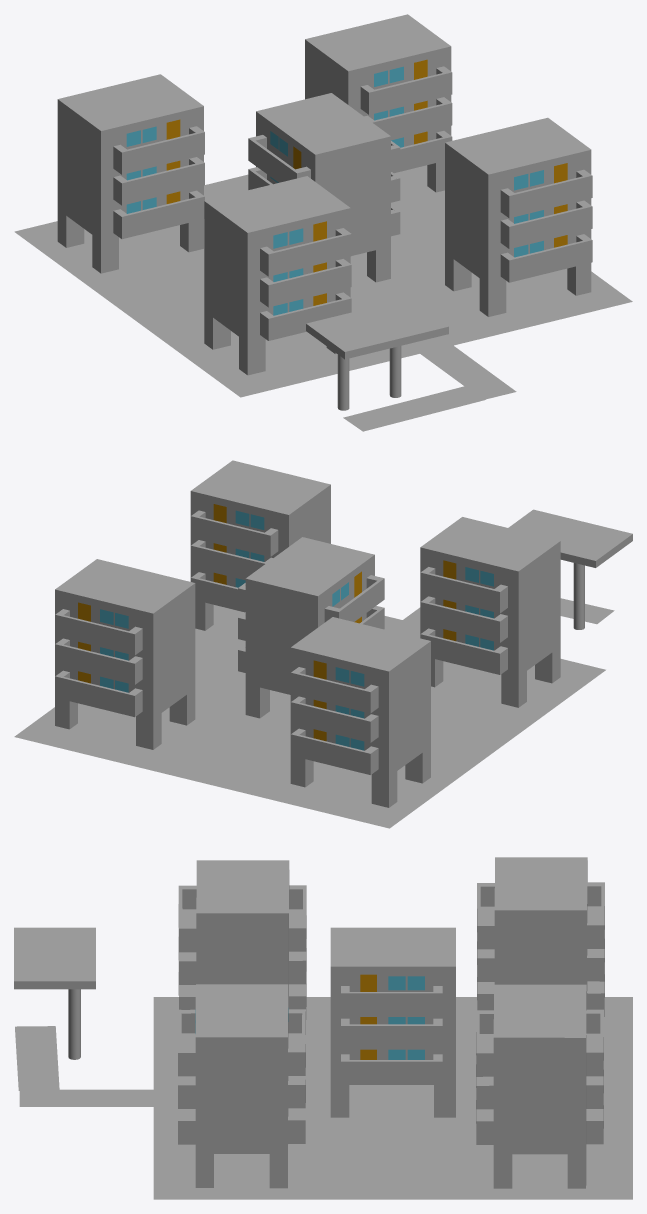
The model's file is voiddeck.fbx.
3 renders of one model, top to bottom at view 1: azimuth 30°, elevation 25°; view 2: azimuth 150°, elevation 25°; view 3: azimuth 270°, elevation 25°, orthographic. The views are drawn at different scales.
Visible parts, largest first — view 1: basehdb1 (×4), voiddeck, basehdb, corridor8 (×4), corridor10 (×4), corridor9 (×4), roof, pathway, busstop, corridor3, rightpole, leftpole; view 2: basehdb1 (×4), voiddeck, basehdb, corridor6 (×4), corridor7 (×4), corridor11 (×4), roof, corridor3, rightpole, busstop; view 3: basehdb1 (×4), voiddeck, basehdb, roof, corridor8 (×4), corridor6 (×4), pathway, corridor1, busstop, corridor, corridor2, corridor7 (×4) (+4 smaller).
Part boxes in pixels (x1,y1,x2,y2): basehdb1 (×4): [57, 14, 591, 375]; voiddeck: [14, 165, 632, 397]; basehdb: [256, 93, 390, 282]; corridor8 (×4): [113, 66, 592, 276]; corridor10 (×4): [113, 97, 592, 307]; corridor9 (×4): [113, 131, 592, 340]; roof: [306, 298, 448, 359]; pathway: [356, 285, 516, 399]; busstop: [343, 386, 485, 431]; corridor3: [248, 135, 310, 182]; rightpole: [337, 354, 349, 410]; leftpole: [389, 346, 401, 397]; basehdb1 (×4): [55, 460, 560, 807]; voiddeck: [14, 605, 605, 828]; basehdb: [245, 537, 374, 718]; corridor6 (×4): [55, 510, 507, 713]; corridor7 (×4): [55, 540, 507, 742]; corridor11 (×4): [55, 572, 507, 774]; roof: [508, 509, 632, 567]; corridor3: [324, 575, 384, 622]; rightpole: [573, 563, 584, 629]; busstop: [560, 598, 614, 624]; basehdb1 (×4): [195, 857, 587, 1188]; voiddeck: [153, 997, 632, 1199]; basehdb: [330, 927, 455, 1117]; roof: [14, 927, 95, 989]; corridor8 (×4): [178, 883, 494, 1076]; corridor6 (×4): [288, 882, 604, 1076]; pathway: [19, 1089, 330, 1106]; corridor1: [341, 1018, 442, 1049]; busstop: [15, 1026, 59, 1090]; corridor: [341, 1054, 442, 1084]; corridor2: [341, 986, 442, 1016]; corridor7 (×4): [288, 930, 604, 1108].
Size of the model in its own units: 77.38 by 26.93 by 99.93.
